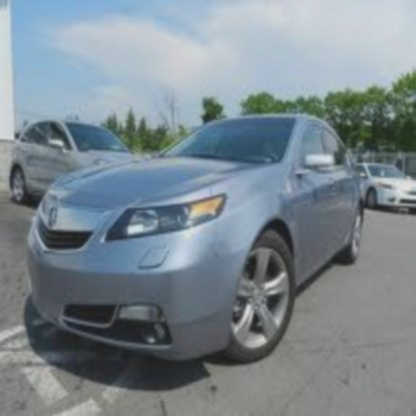Vehicle: (28, 113, 370, 366)
